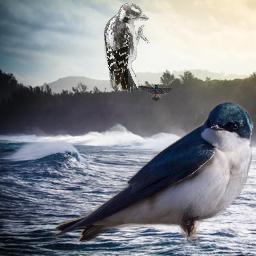Swallow: (52, 101, 254, 243), (137, 84, 172, 101)
Woodpecker: (104, 3, 150, 93)
